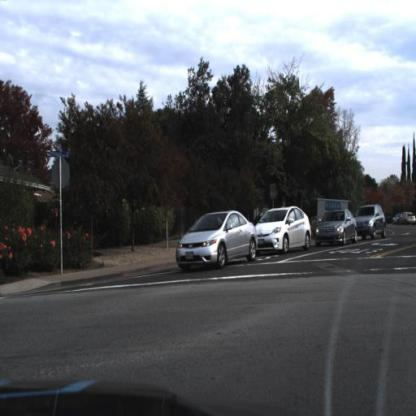car: (176, 209, 261, 273), (252, 206, 312, 257), (316, 210, 359, 250), (352, 204, 388, 242)
